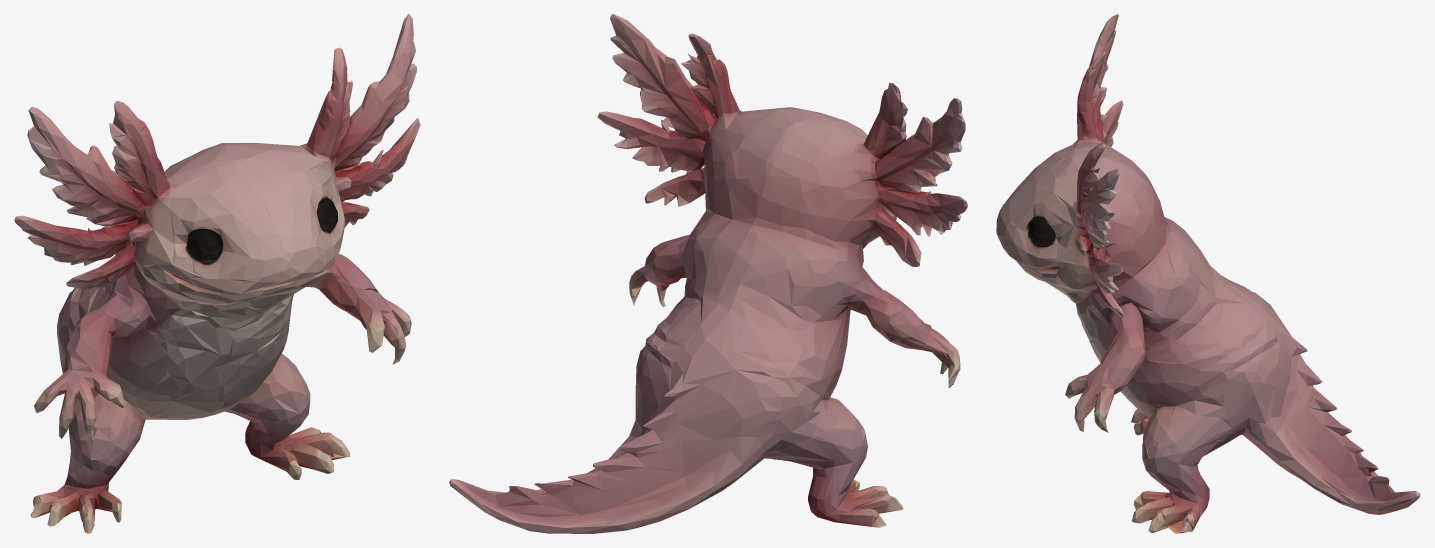
The model's file is axolotl.glb.
The picture shows the model from 3 angles, left to right: view 1: azimuth 30°, elevation 25°; view 2: azimuth 150°, elevation 25°; view 3: azimuth 270°, elevation 25°; orthographic projection. The views are drawn at different scales.
Parts seen in each view (by area): view 1: tripo_node_d383771a_tripo_mat_d383771a_0; view 2: tripo_node_d383771a_tripo_mat_d383771a_0; view 3: tripo_node_d383771a_tripo_mat_d383771a_0.
Boxes of the visible parts, box(x1,y1,x2,y2) form: tripo_node_d383771a_tripo_mat_d383771a_0: box(14, 14, 420, 533); tripo_node_d383771a_tripo_mat_d383771a_0: box(449, 14, 967, 533); tripo_node_d383771a_tripo_mat_d383771a_0: box(996, 14, 1420, 533).
Bounding box in the file's own units: 0.9183 × 0.9755 × 0.9801.
Materials: 1 (1 with a texture image).
